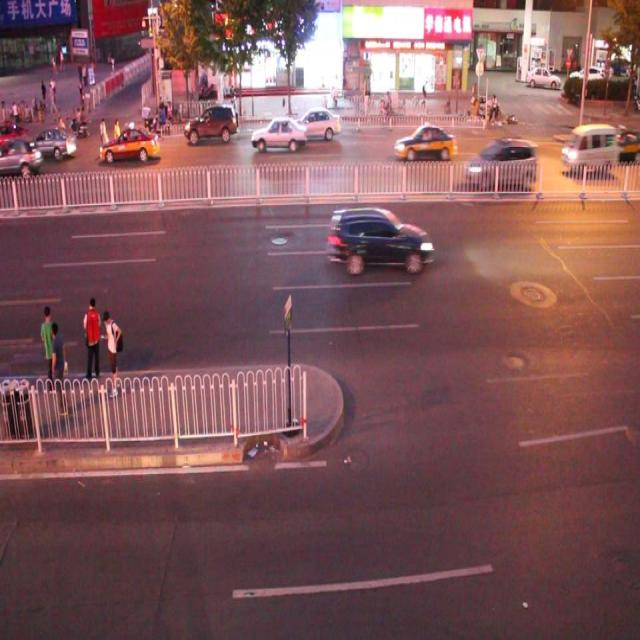car: (327, 205, 430, 274), (466, 136, 535, 191), (394, 124, 457, 162), (183, 103, 238, 144), (100, 127, 160, 163), (251, 115, 306, 150), (290, 107, 340, 142), (0, 136, 42, 177), (26, 128, 77, 160), (1, 120, 30, 150)
truck: (562, 122, 614, 175)
